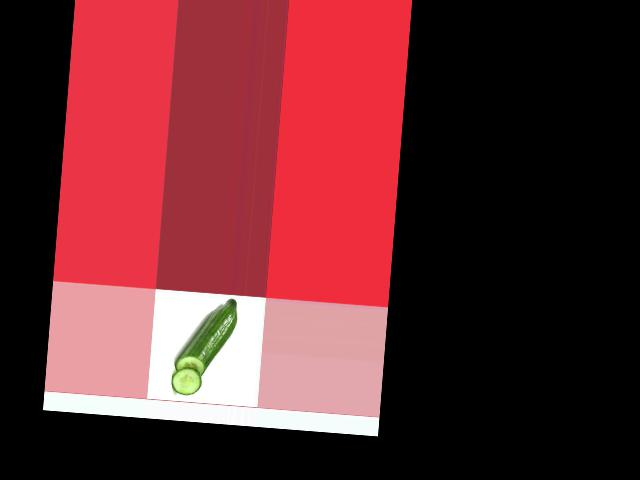cucumber: (174, 295, 238, 379)
